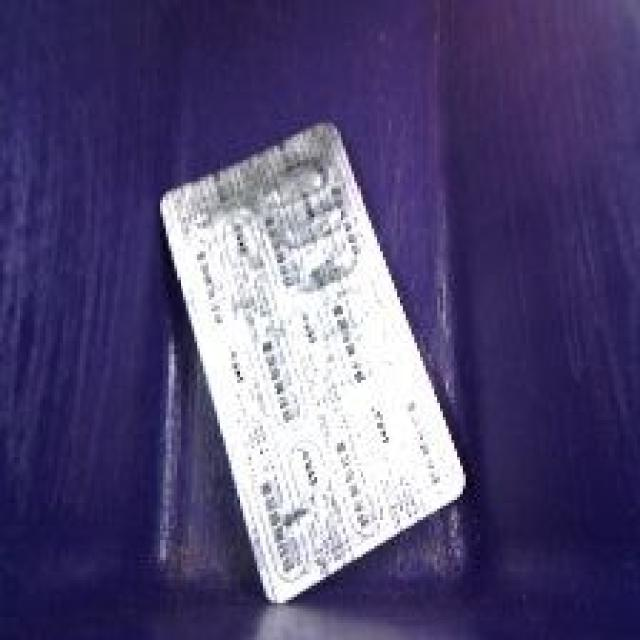med_plate: (136, 108, 486, 611)
